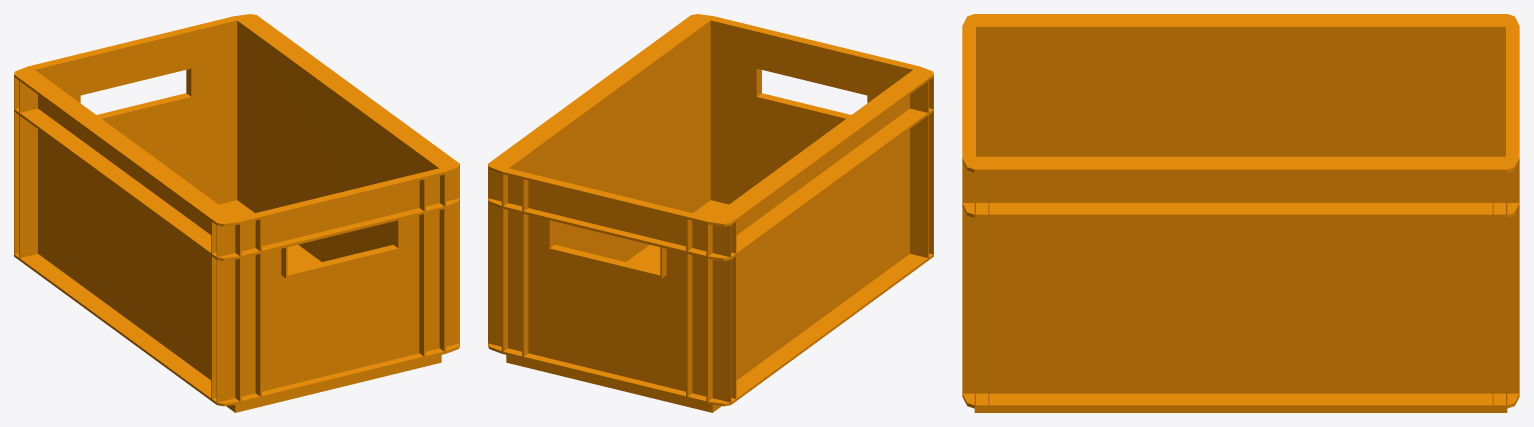
Rendered from EuroContainer_A.dae.
3 renders of one model, left to right at view 1: azimuth 30°, elevation 25°; view 2: azimuth 150°, elevation 25°; view 3: azimuth 270°, elevation 25°, orthographic. The views are drawn at different scales.
Parts seen in each view (by area): view 1: EuroContainer_A; view 2: EuroContainer_A; view 3: EuroContainer_A.
Boxes of the visible parts, left/top/right/bottom form: EuroContainer_A: left=14, top=14, right=459, bottom=412; EuroContainer_A: left=488, top=14, right=933, bottom=412; EuroContainer_A: left=962, top=14, right=1519, bottom=412.
Size of the model in its own units: 0.1962 by 0.2968 by 0.15.
1 material, 1 textured.
